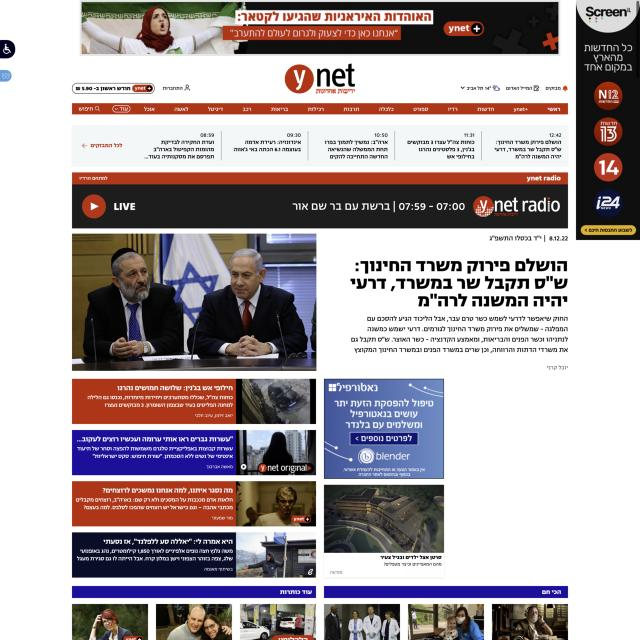logo: (282, 62, 359, 97)
navigation: (73, 102, 567, 115), (461, 84, 568, 94)
